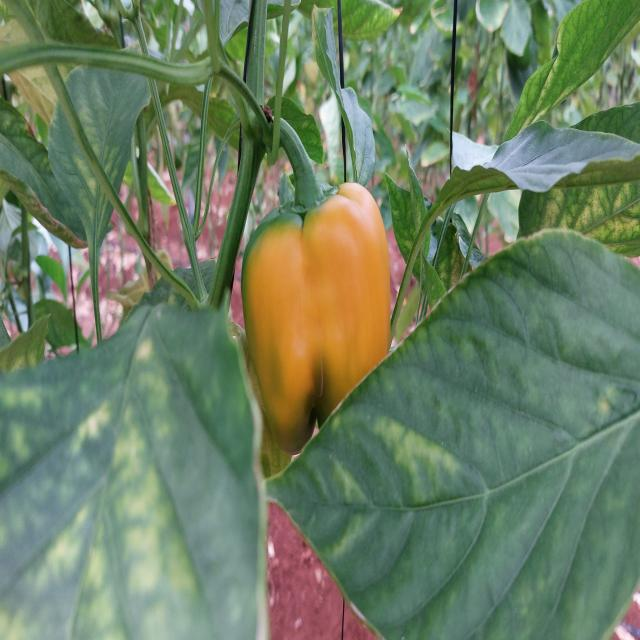GreenishYellow--Can-be-Harvested: (227, 189, 428, 489)
